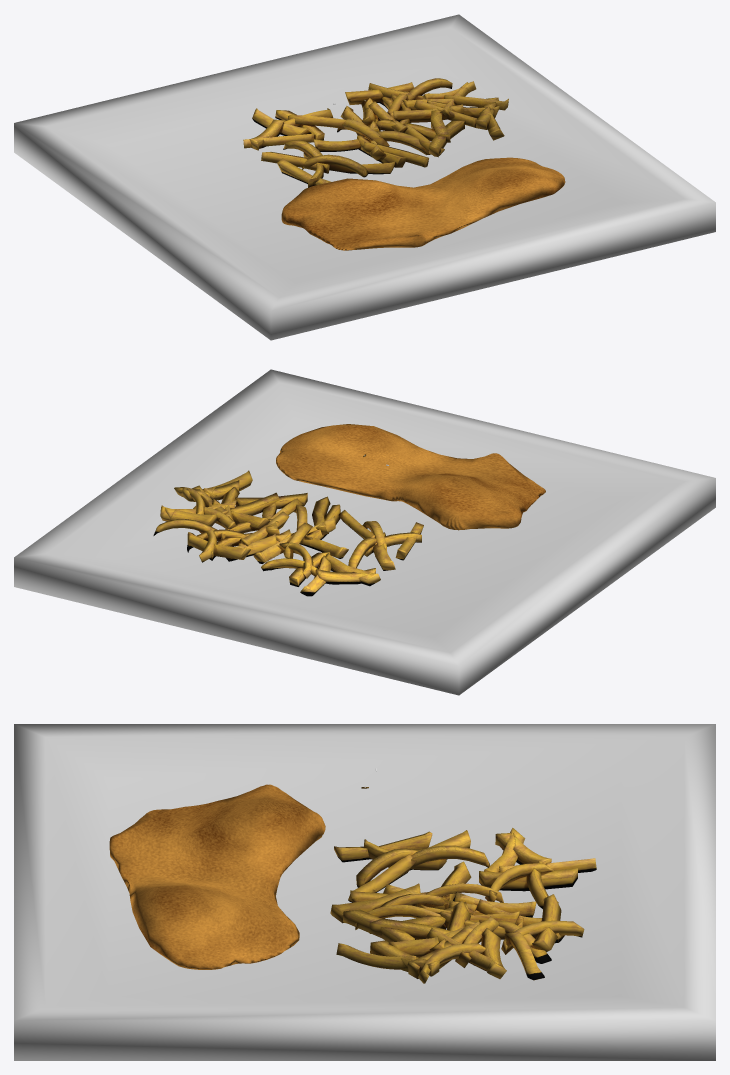
File: meal1.glb
3 renders of one model, top to bottom at view 1: azimuth 30°, elevation 25°; view 2: azimuth 150°, elevation 25°; view 3: azimuth 270°, elevation 25°, orthographic. The views are drawn at different scales.
Parts seen in each view (by area): view 1: Cube, Cube.002, Plane; view 2: Cube, Cube.002, Plane; view 3: Cube, Cube.002, Plane.
Boxes of the visible parts, box(x1,y1,x2,y2) form: Cube: box(14, 14, 715, 340); Cube.002: box(281, 157, 565, 250); Plane: box(243, 78, 508, 187); Cube: box(14, 369, 715, 695); Cube.002: box(276, 424, 545, 530); Plane: box(153, 470, 423, 596); Cube: box(14, 724, 715, 1060); Cube.002: box(109, 784, 325, 969); Plane: box(330, 828, 596, 983).
Size of the model in its own units: 25.74 by 5.09 by 25.74.
Materials: 5 (2 with a texture image).
